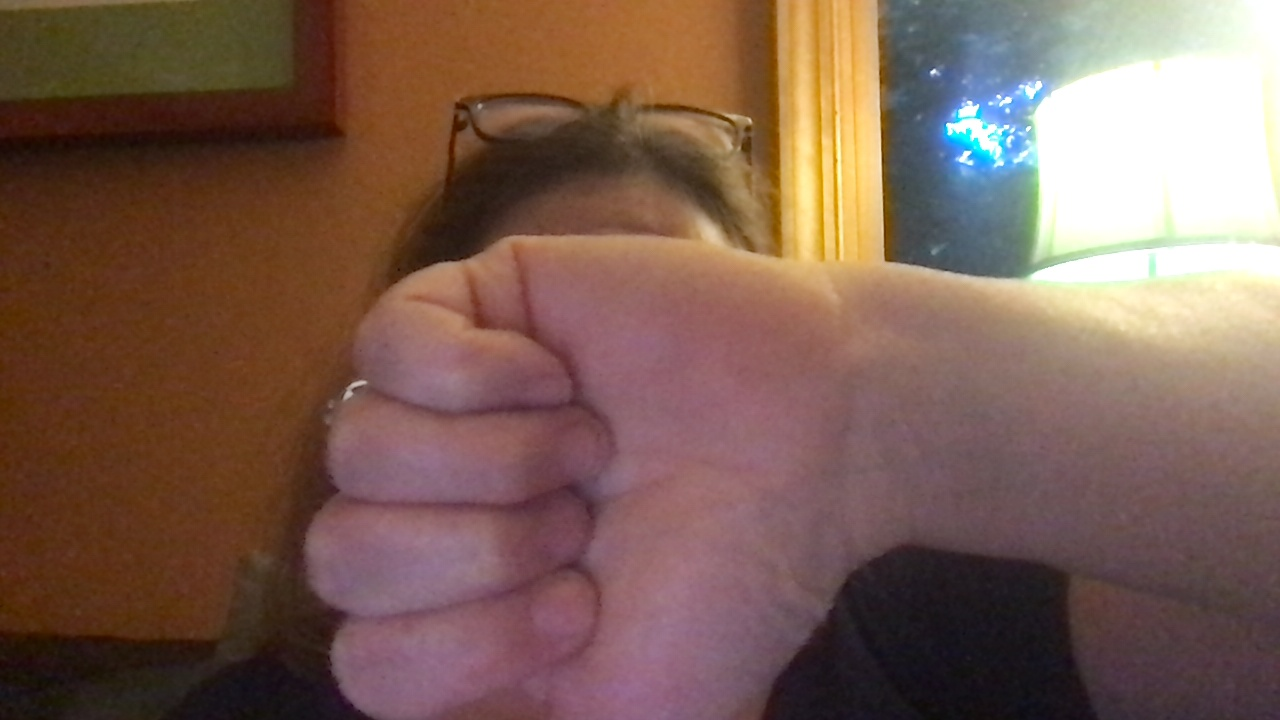thumbsdown: (300, 228, 854, 720)
